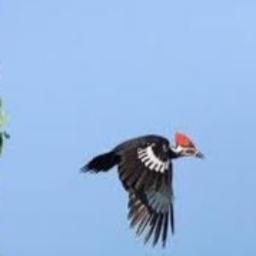Woodpecker: (79, 131, 205, 248)
